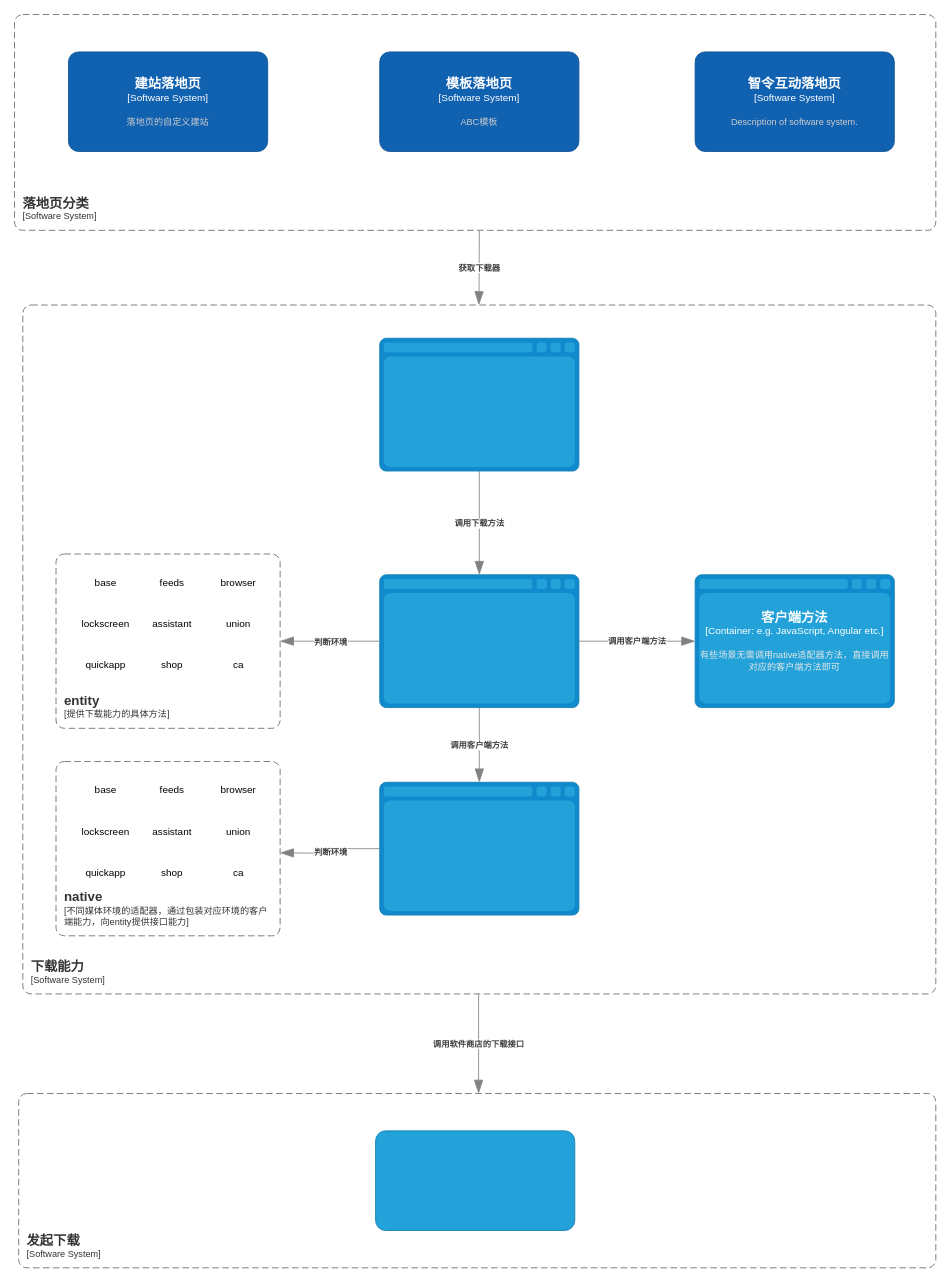
Image size: 950x1282. Some labels were removed from this diagram. The centre of each missing label's shape, as x and y in pixels:
download/index.js [Container: JavaScript.] 通用下载能力的调用入口，通过判断媒体环境，返回对应环境的下载器: the point at 479,404
entity [Container: JavaScript.] 提供不同媒体的下载能力的实现方法: the point at 479,641
native [Container: JavaScript.] 不同媒体的适配器，提供对应媒体的客户端能力: the point at 479,848
软件商店 [Container: e.g. SpringBoot, ElasticSearch, etc.] 提供接口给客户端，发起应用的下载请求: the point at 475,1180
